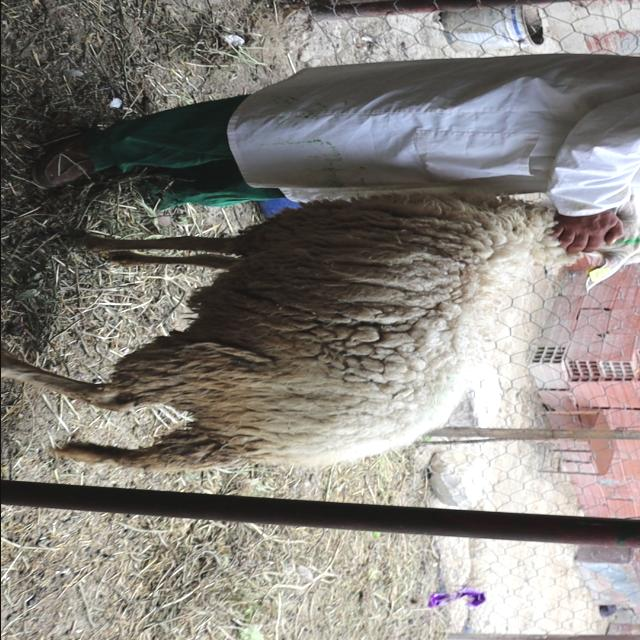Score_3: (1, 194, 578, 471)
